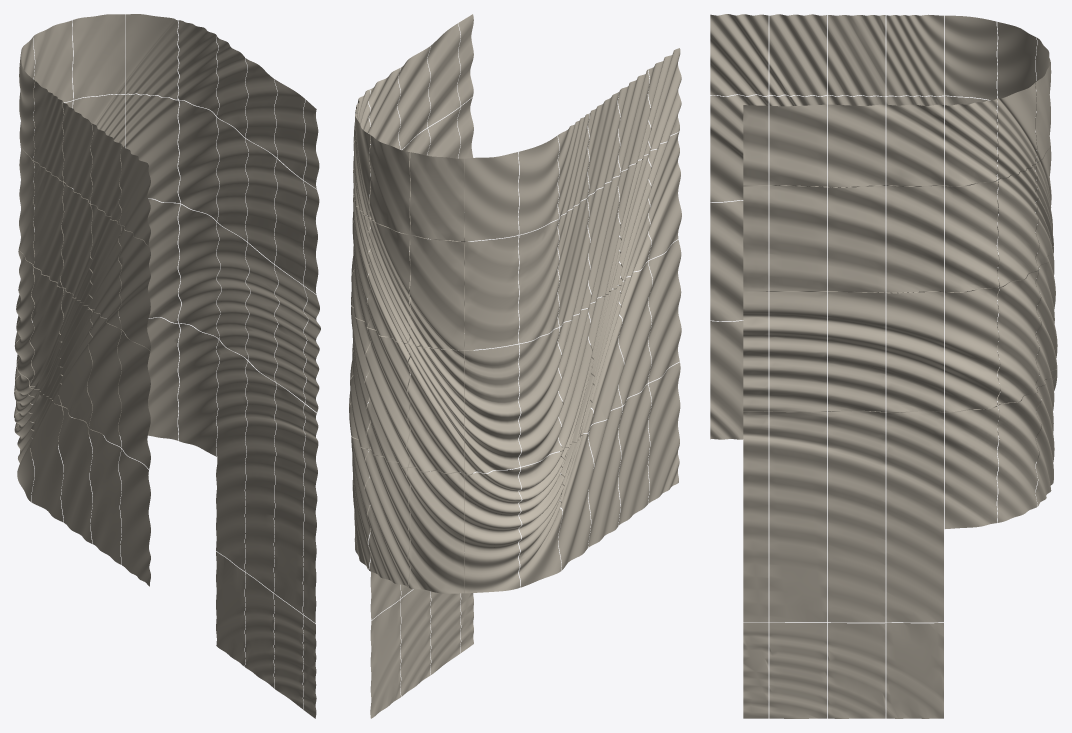
The model's file is wave_wall.glb.
The picture shows the model from 3 angles, left to right: view 1: azimuth 30°, elevation 25°; view 2: azimuth 150°, elevation 25°; view 3: azimuth 270°, elevation 25°; orthographic projection. The views are drawn at different scales.
Visible parts, largest first — view 1: WAVE 1 (×51); view 2: WAVE 1 (×49); view 3: WAVE 1 (×44).
Boxes of the visible parts, box(x1,y1,x2,y2) form: WAVE 1 (×51): box(14, 14, 320, 718); WAVE 1 (×49): box(349, 14, 681, 718); WAVE 1 (×44): box(710, 14, 1057, 718).
Bounding box in the file's own units: 0.0767 × 0.2304 × 0.118.
